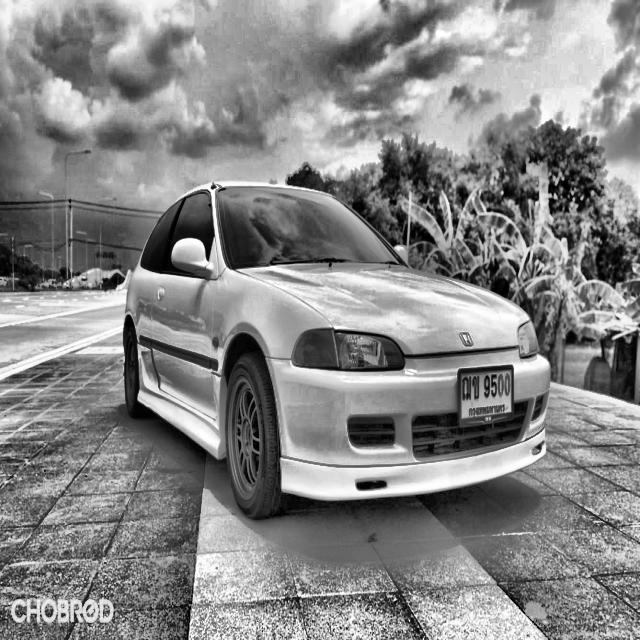license-plate: (456, 359, 515, 432)
